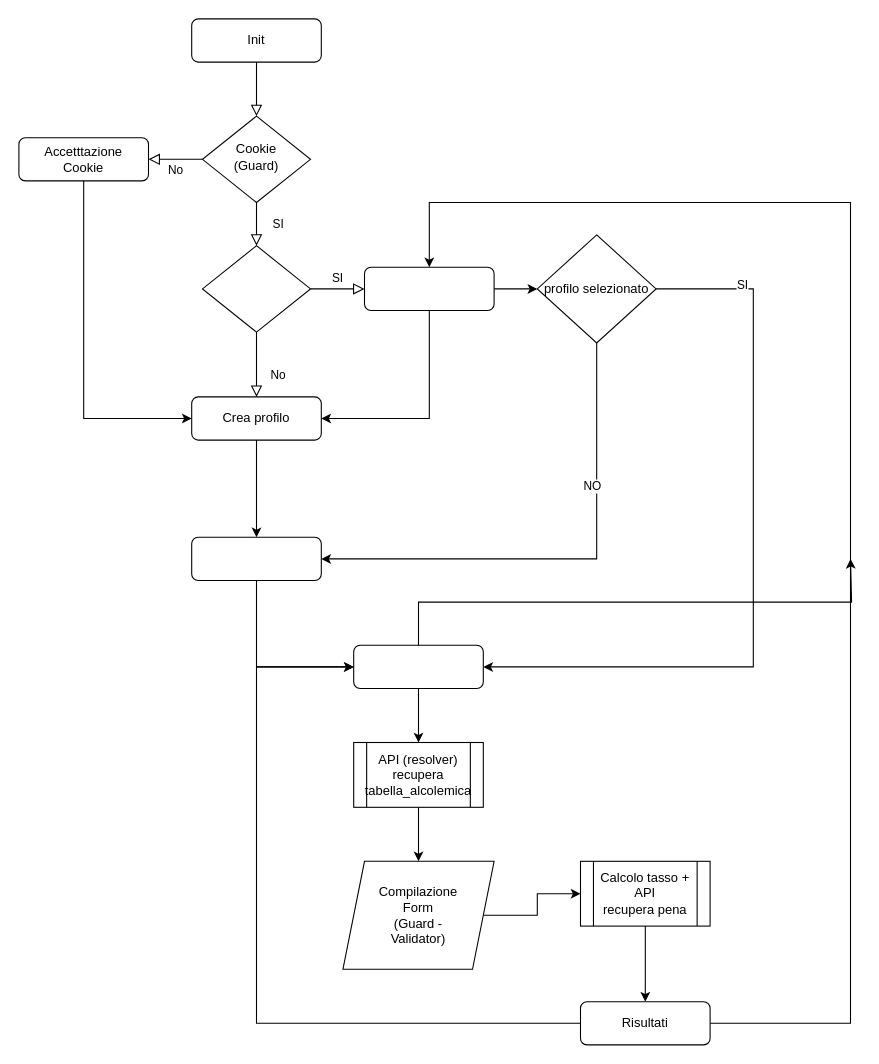
Some shapes in this 879 by 1064 pixel diagram are drawn without their labels. The centre of each missing label's shape, as x and y in pixels:
"esiste profilo" goes at (255,288).
"Home" goes at (418,666).
"profili" goes at (428,288).
"seleziona profilo" goes at (256,558).
